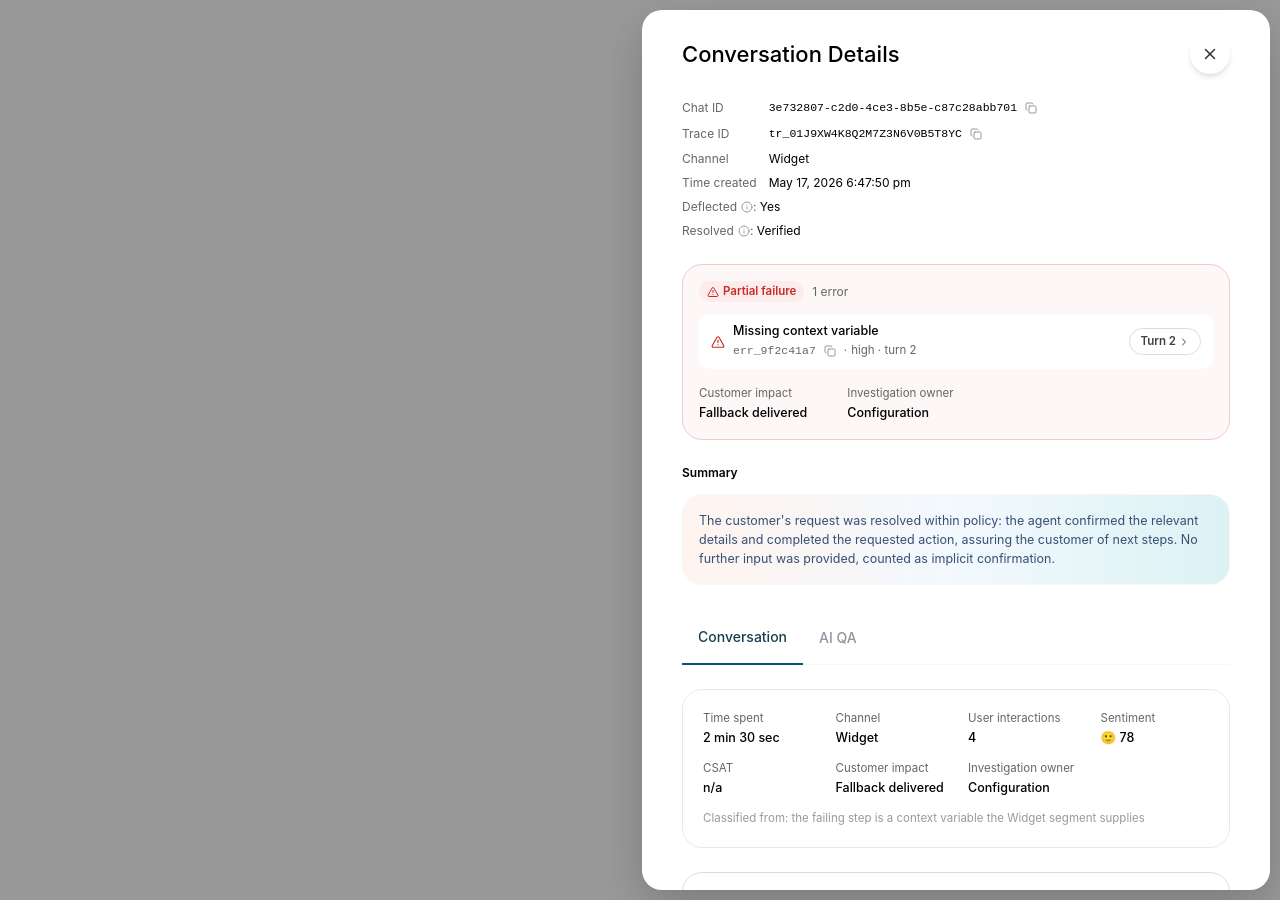
Scenario: ConversationDetailPanel · audit › returns to the Conversation tab before revealing, from the AI QA tab
This screenshot has width=1280, height=900.
Click the tab "AI QA" at (838, 637), box [803,610,873,664]
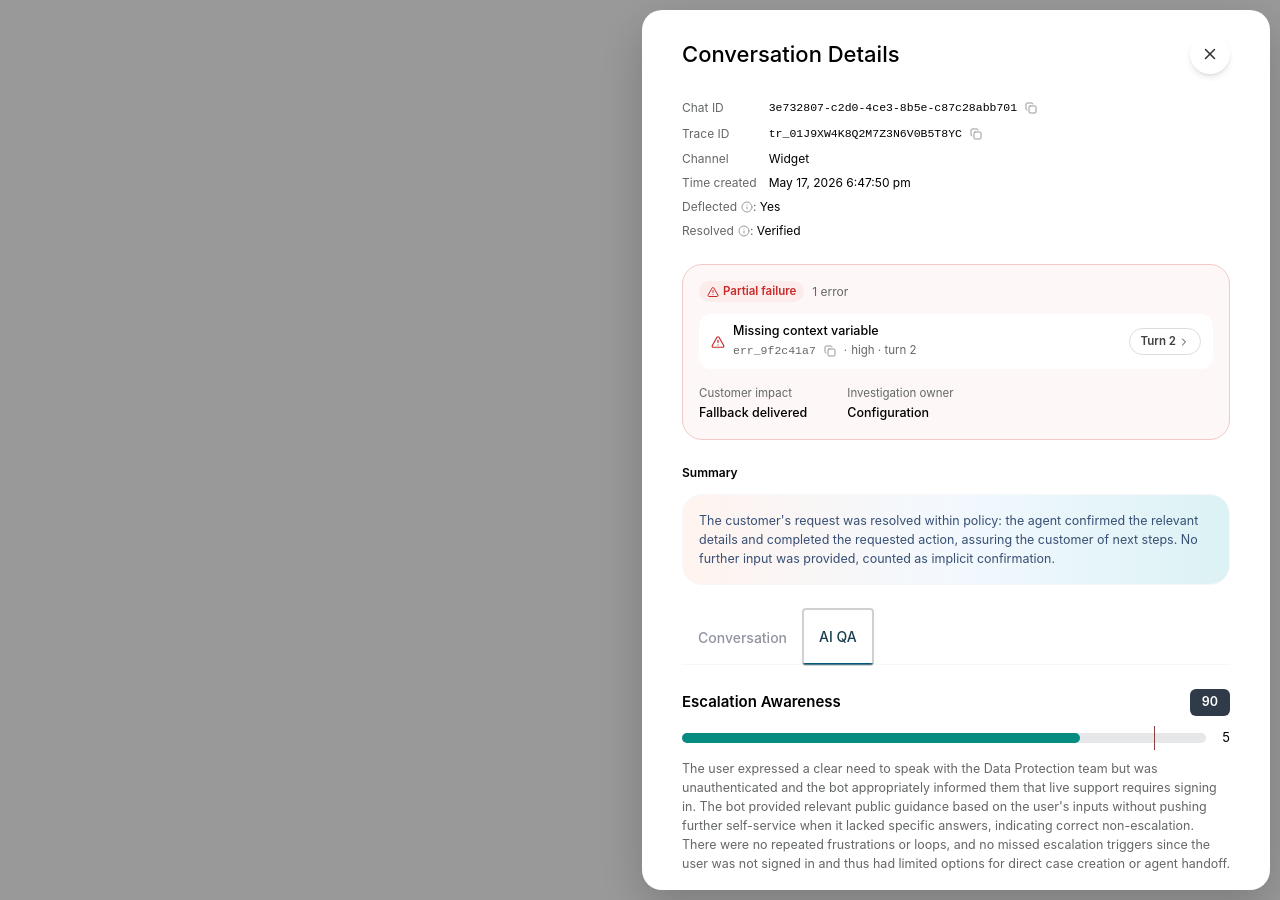
Click the button with aria-label "Jump to Missing context variable" at (1165, 342), box [1129,328,1201,355]
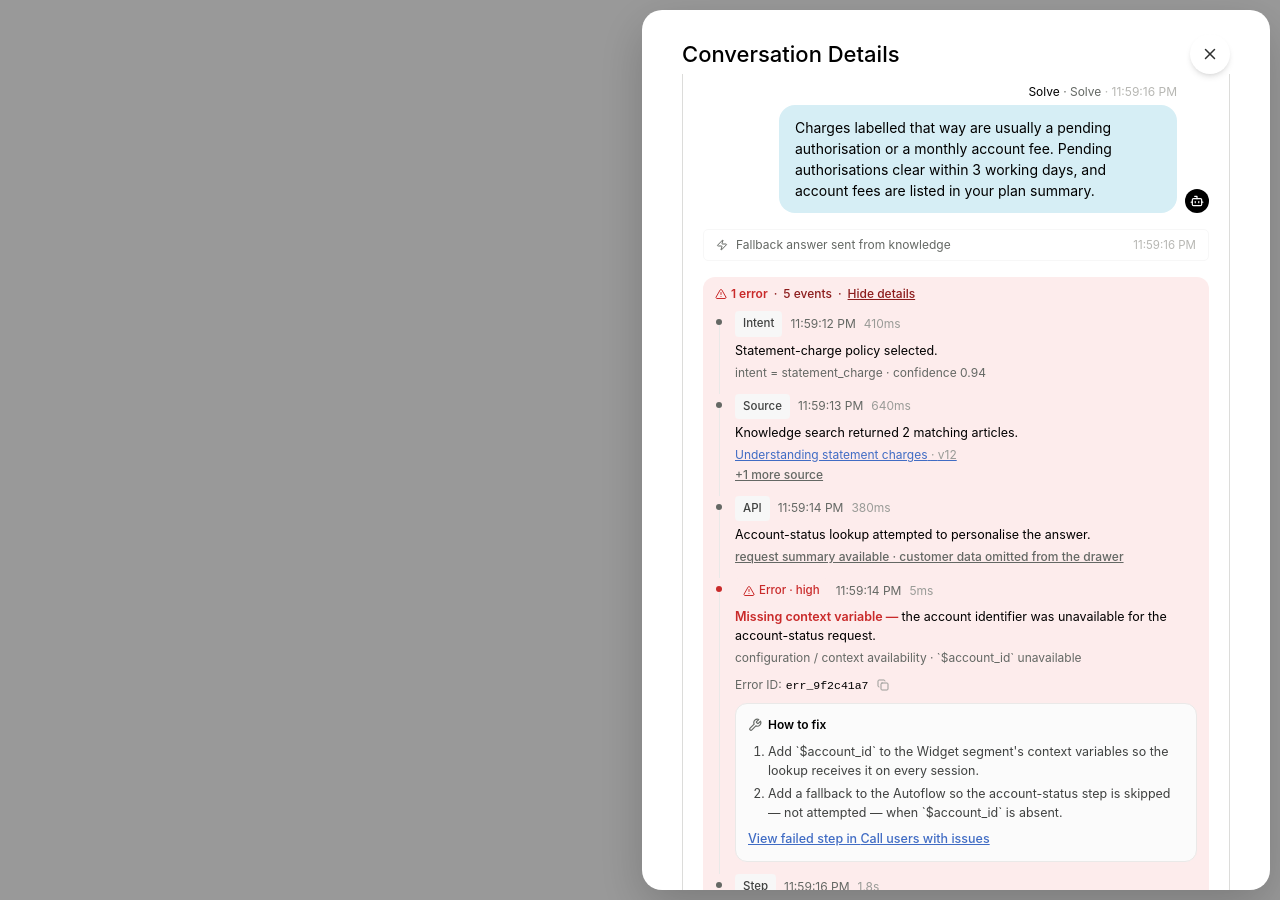
Expected: the text "the account identifier was unavailable" is shown, [735,609,1167,643]
